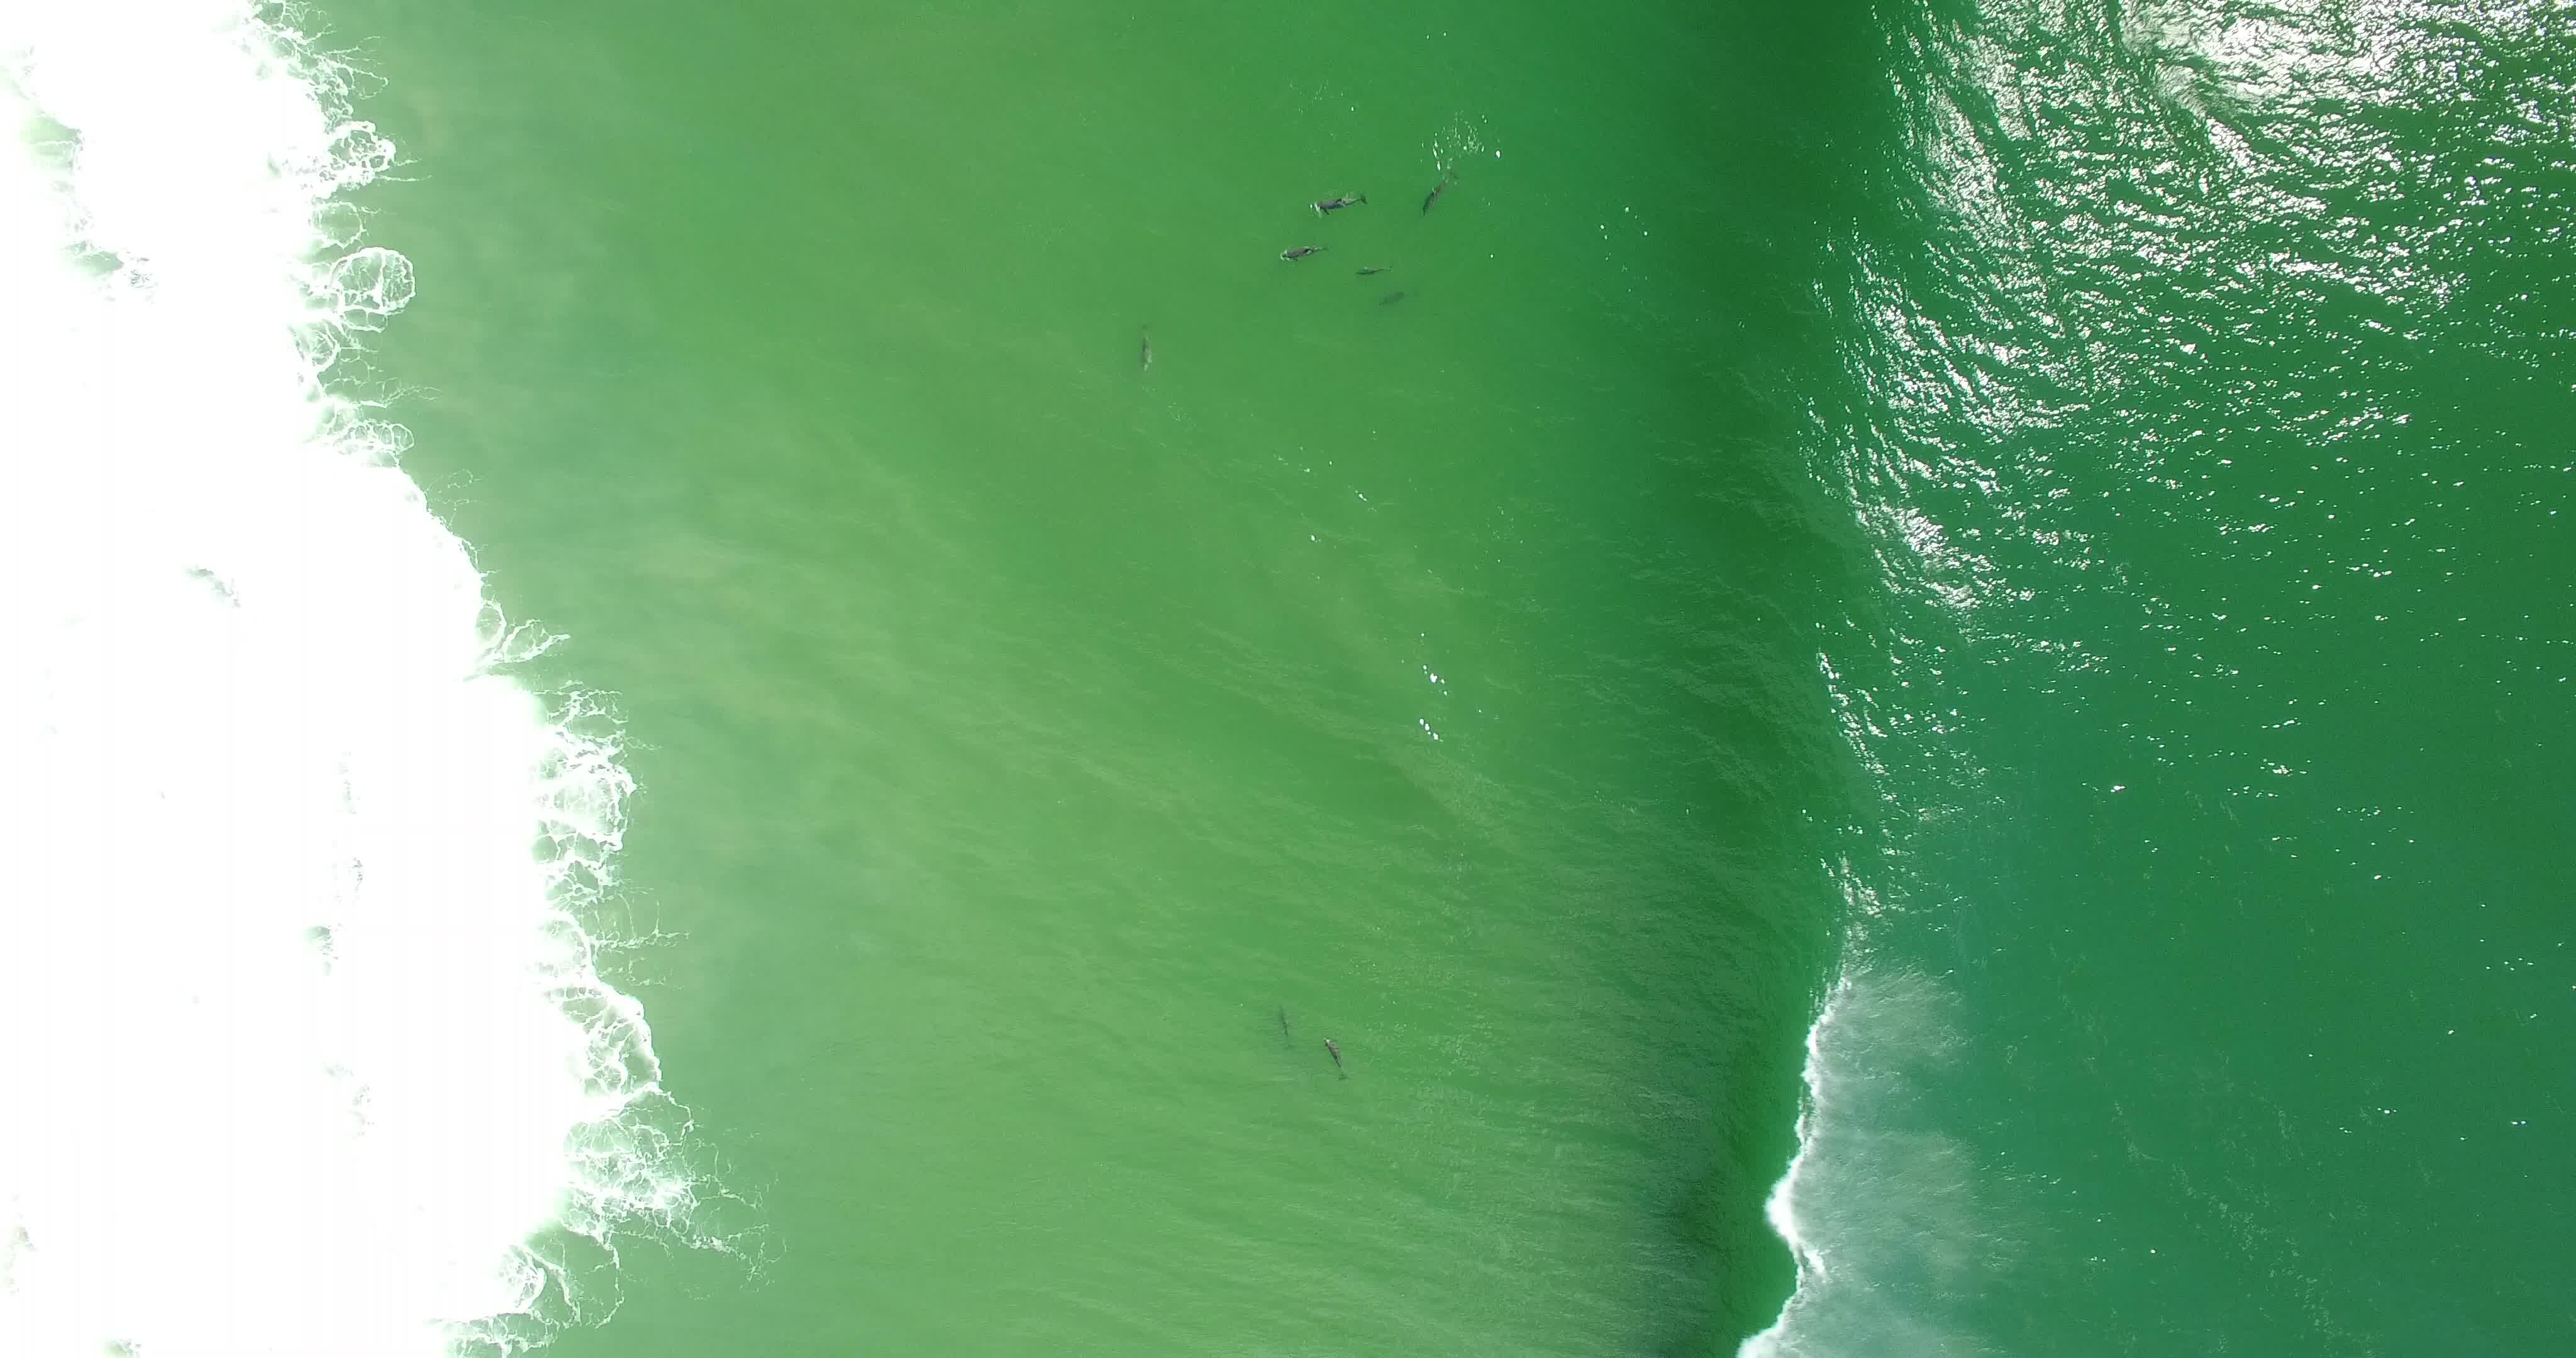dolphin: (1404, 158, 1470, 222), (1302, 1019, 1361, 1085), (1121, 310, 1169, 378), (1257, 988, 1303, 1051), (1269, 228, 1336, 271), (1302, 181, 1375, 218), (1360, 278, 1419, 308), (1346, 250, 1406, 278)
